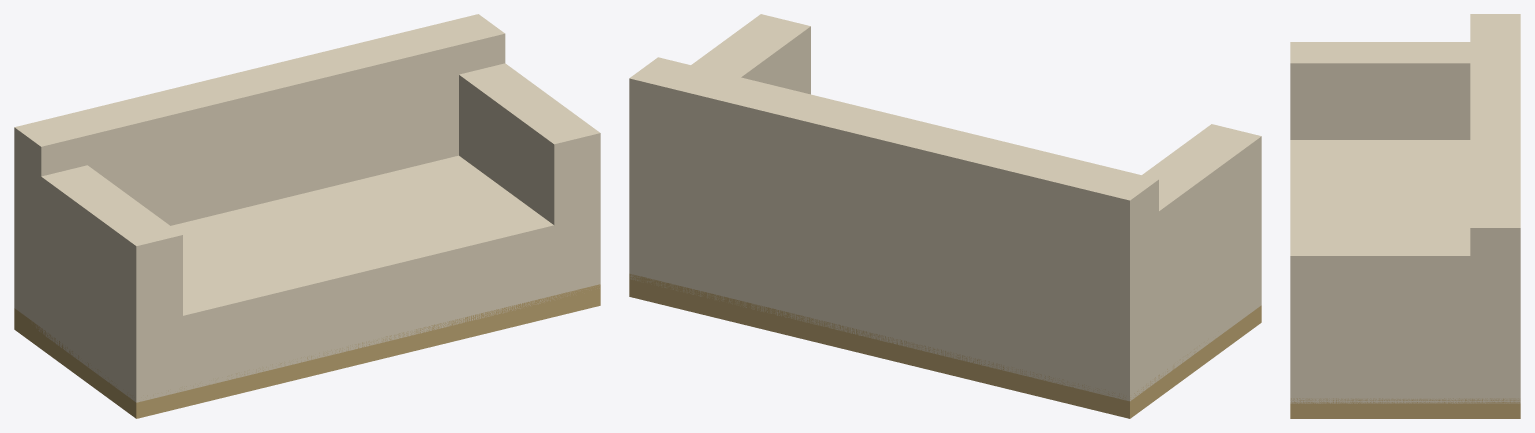
File: sofa-lounge.glb
The picture shows the model from 3 angles, left to right: view 1: azimuth 30°, elevation 25°; view 2: azimuth 150°, elevation 25°; view 3: azimuth 270°, elevation 25°; orthographic projection. The views are drawn at different scales.
Bounding box in the file's own units: 1.8 × 0.75 × 0.82.
